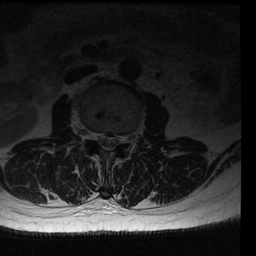CCS_stenosis: (106, 128, 112, 157)
LFS_normal: (119, 128, 127, 150)
LLS_normal: (112, 128, 119, 154)
RFS_normal: (89, 122, 98, 148)
RLS_normal: (98, 127, 106, 152)
